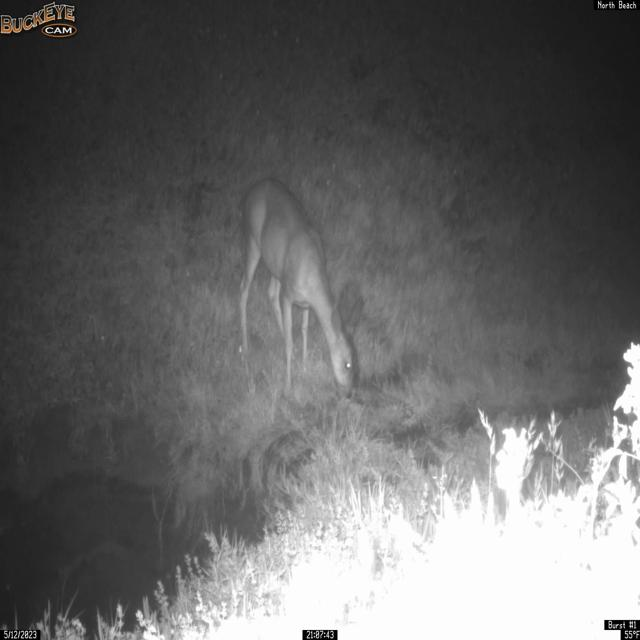deer: (237, 177, 366, 400)
